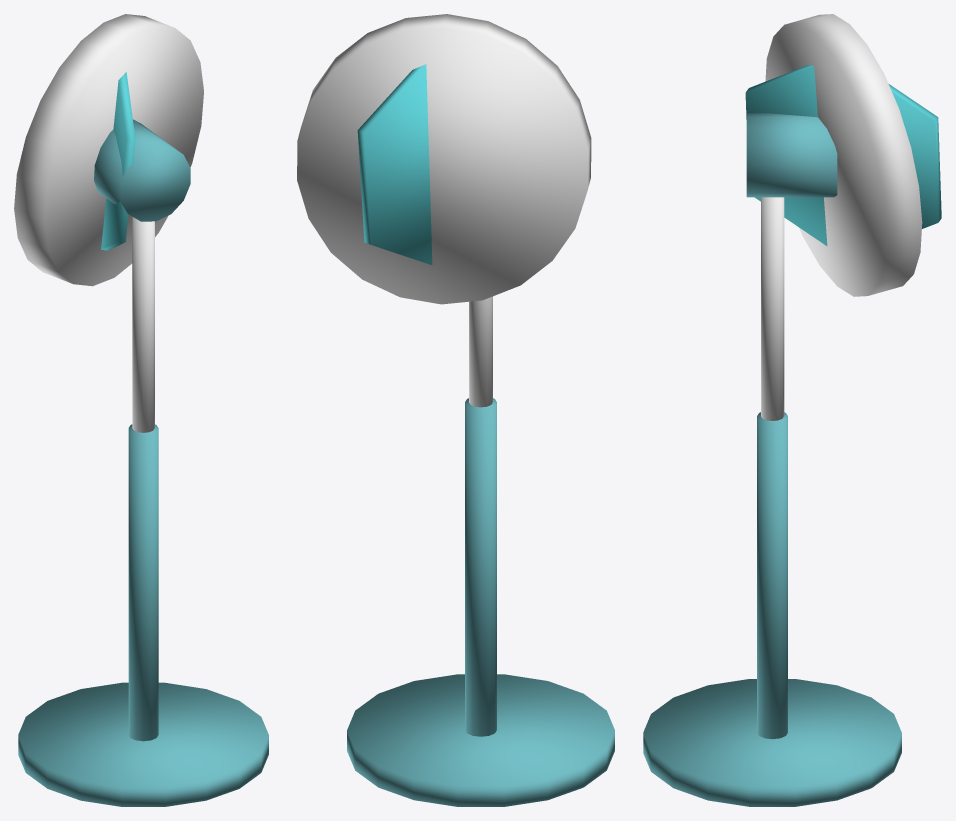
Rendered from Indo_Kipas_Angin.fbx.
3 views of the same model, side by side, from view 1: azimuth 30°, elevation 25°; view 2: azimuth 150°, elevation 25°; view 3: azimuth 270°, elevation 25° (orthographic). The views are drawn at different scales.
Parts seen in each view (by area): view 1: Indo_Kipas_Angin; view 2: Indo_Kipas_Angin; view 3: Indo_Kipas_Angin.
Part boxes in pixels (x1,y1,x2,y2): Indo_Kipas_Angin: (14, 14, 268, 806); Indo_Kipas_Angin: (297, 14, 614, 806); Indo_Kipas_Angin: (643, 14, 941, 806).
Size of the model in its own units: 42.23 by 124 by 46.17.
